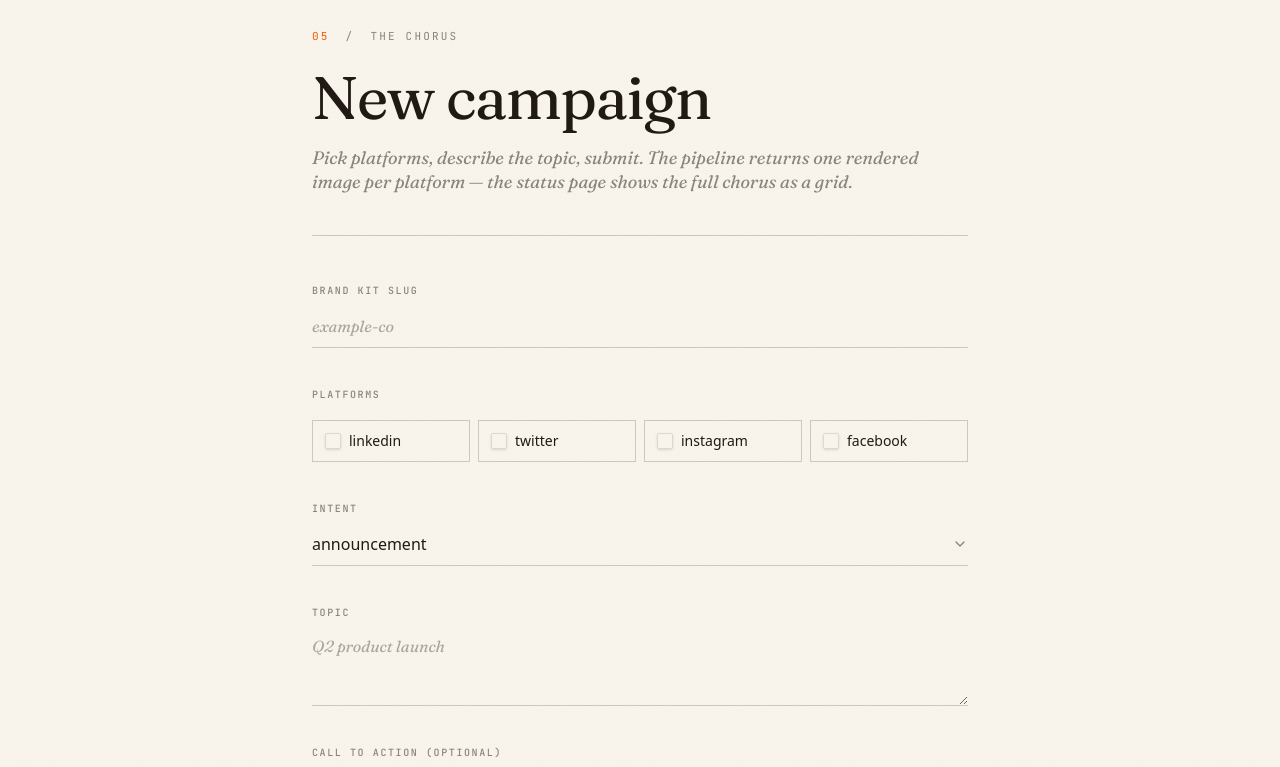
Test: NewCampaignPage › submits the selected platforms array on valid input
Type "shrubnet" into the field labelled "Brand kit slug" at (640, 326), box [312,304,968,348]
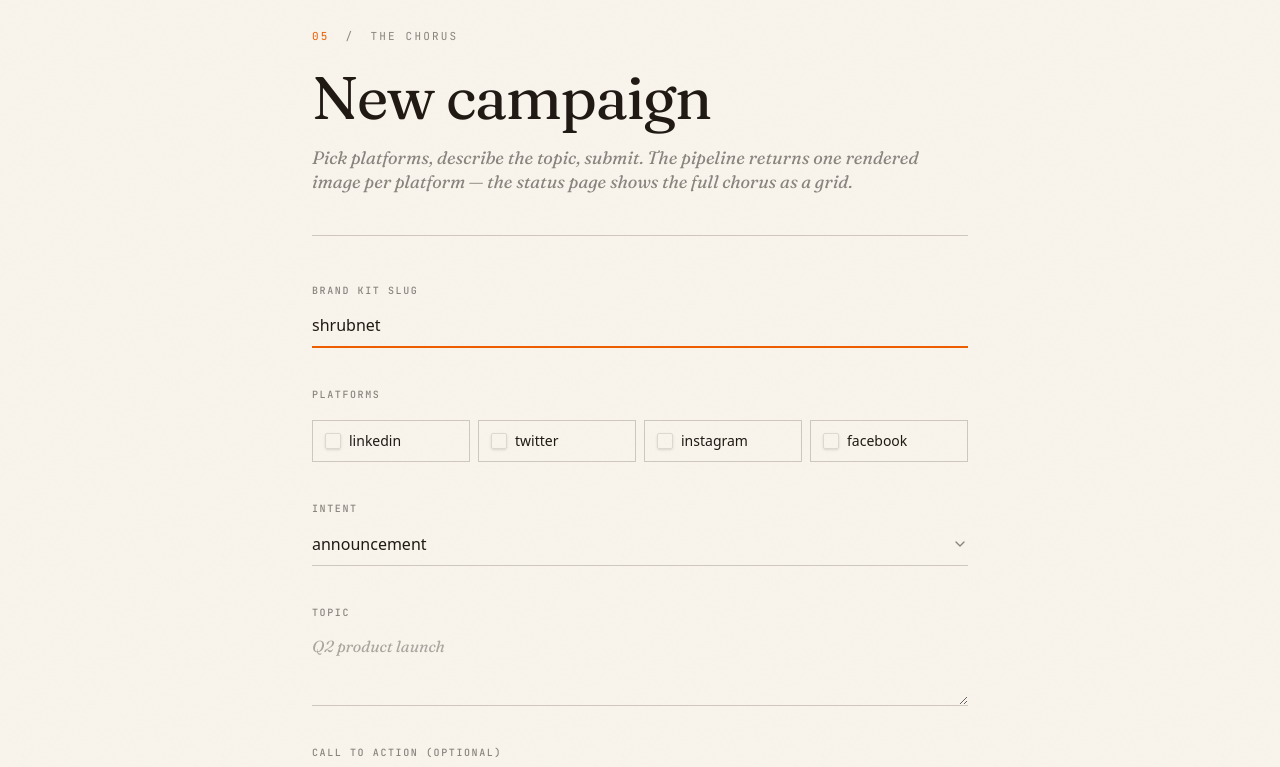
Type "Q2 launch" into the text box labelled "Topic" at (640, 666), box [312,626,968,706]
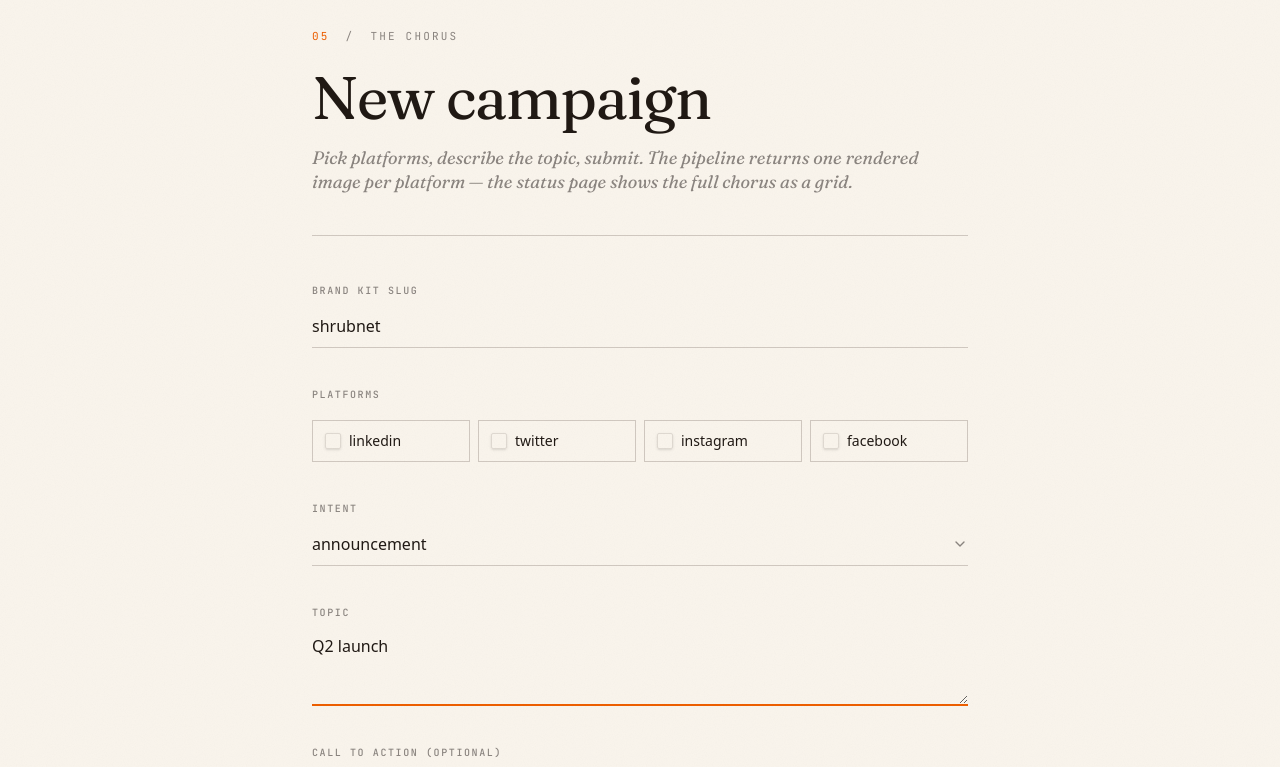
Click the text "linkedin" at (375, 441), box [349,431,401,451]
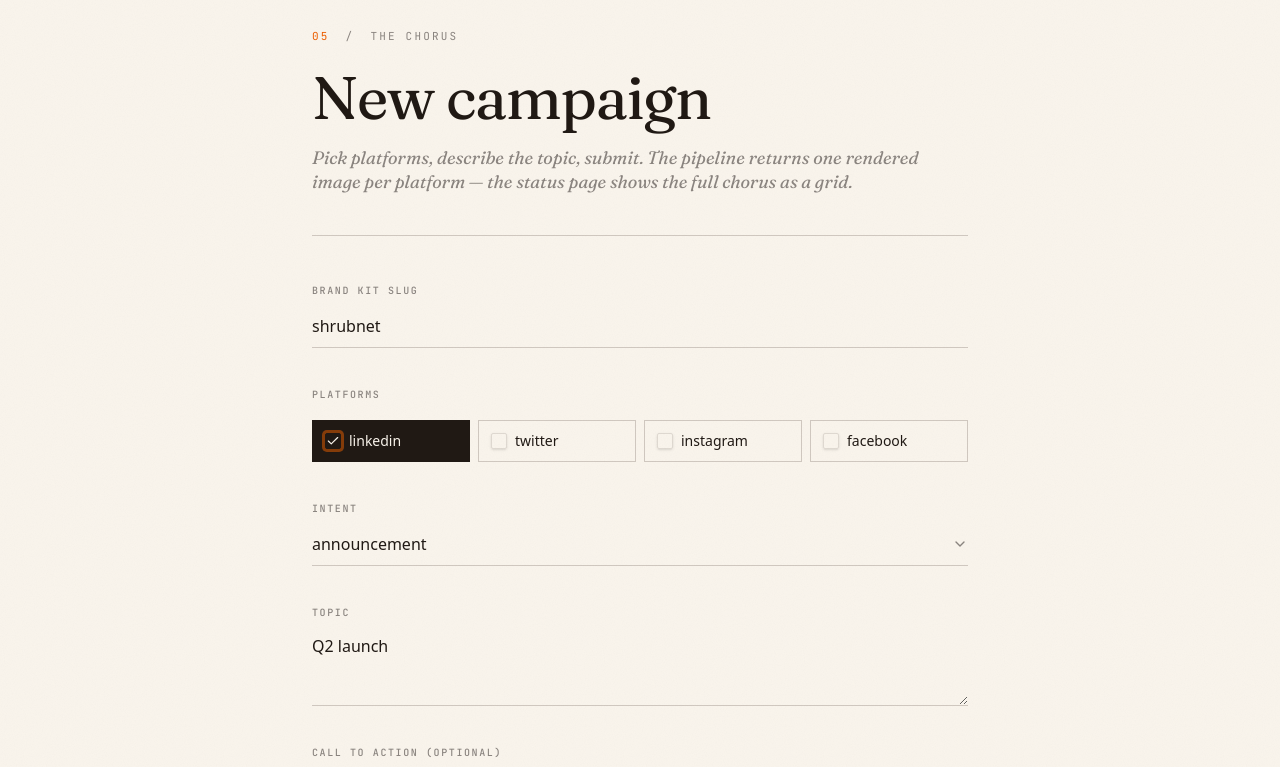
Click the text "twitter" at (537, 441), box [515,431,558,451]
(page scrolled)
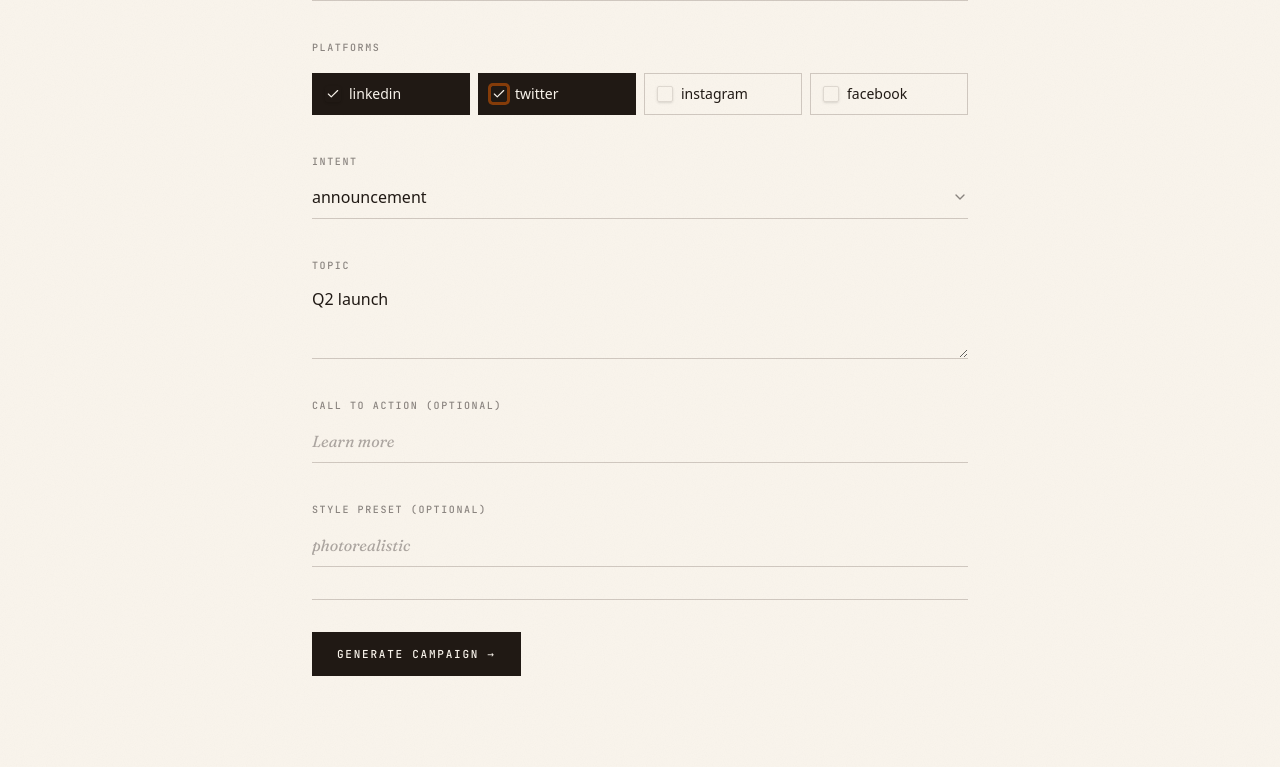
Click the button "Generate campaign →" at (416, 654), box [312,632,521,676]
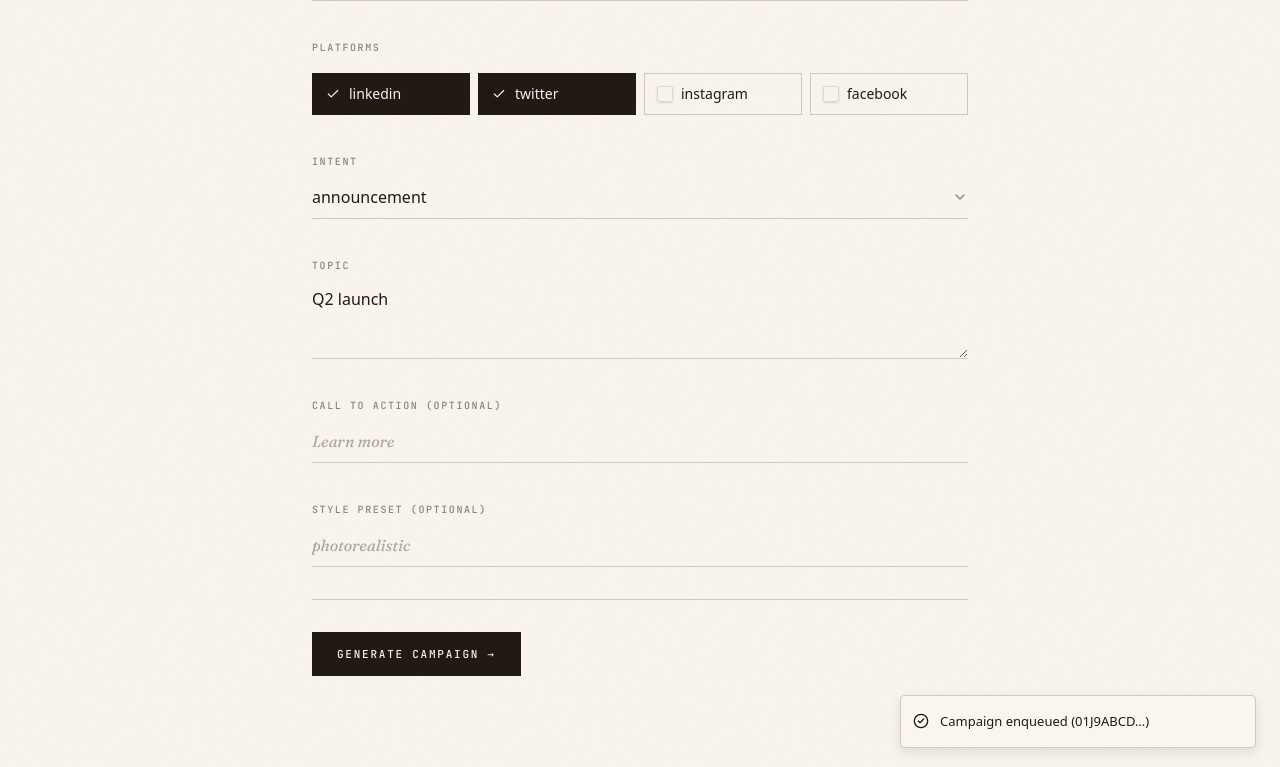
Check: the text "announcement" is shown, box [312,184,427,208]
Check: the text "Campaign enqueued (01J9ABCD...)" is shown, box [940,712,1149,731]
